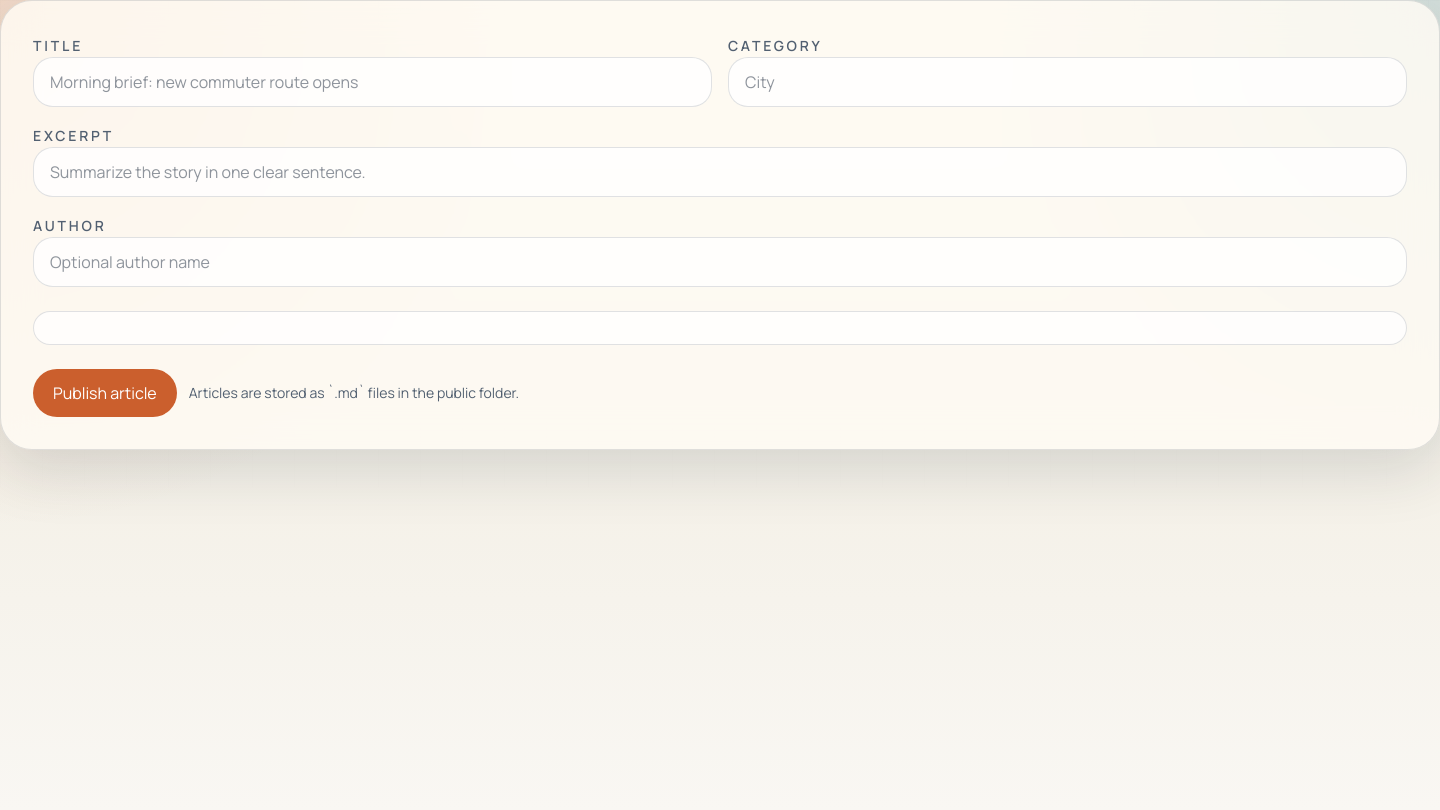
AddNewsForm › shows validation feedback for invalid input
Click the button "Publish article" at point(105, 393), box top-left (33, 369), bottom-right (177, 417)
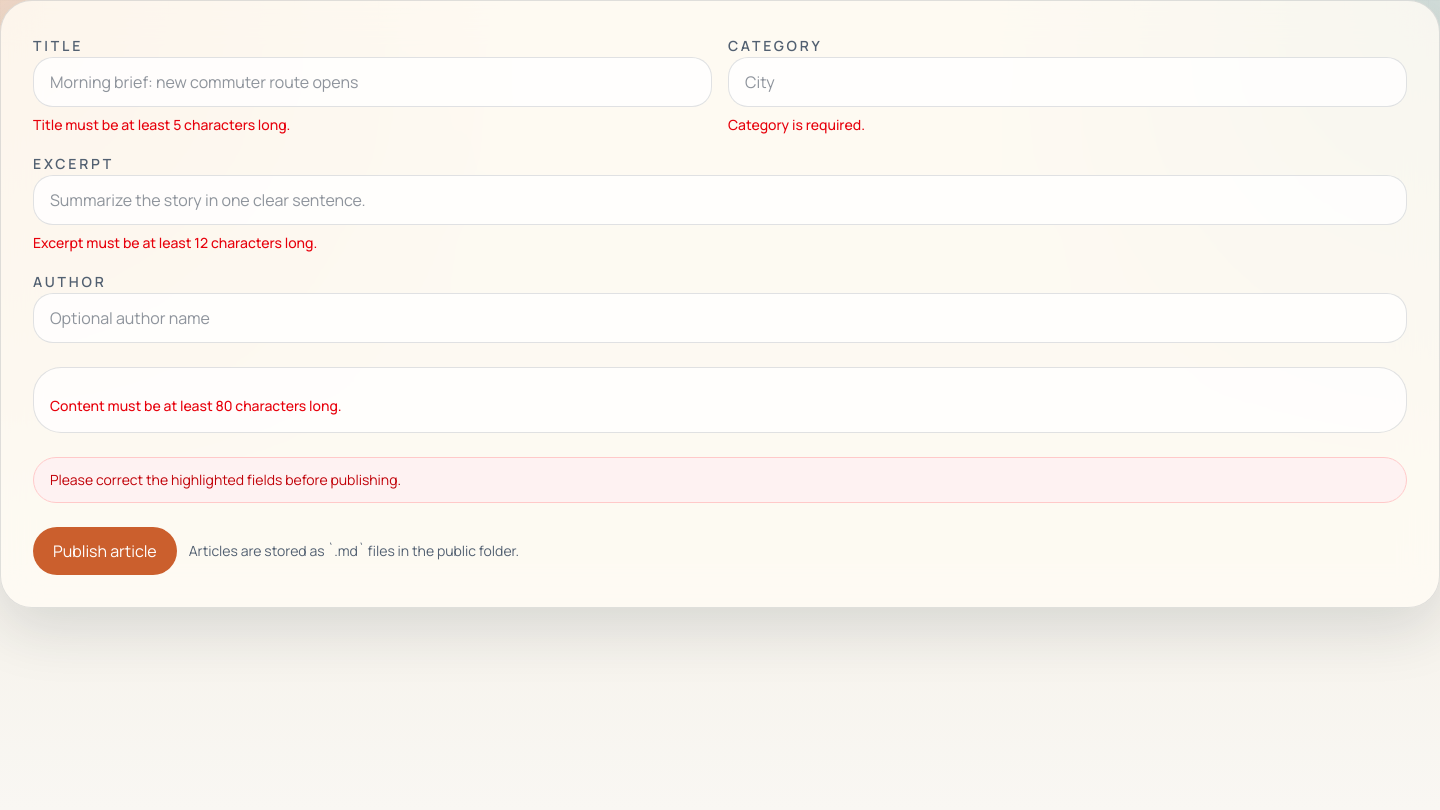
Expected: the text "Please correct the highlighted fields before publishing." is shown, top-left (33, 457), bottom-right (1407, 503)
